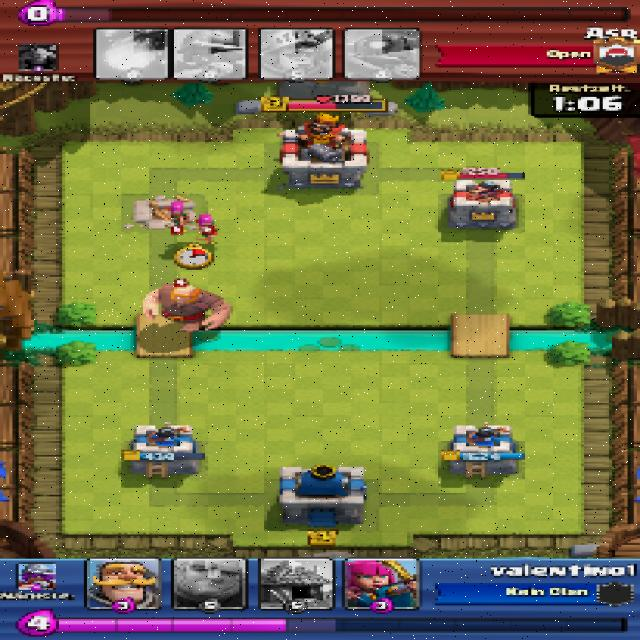Enemy-Archer: (191, 214, 220, 240), (168, 204, 191, 225)
Enemy-Giant: (139, 285, 232, 333)
